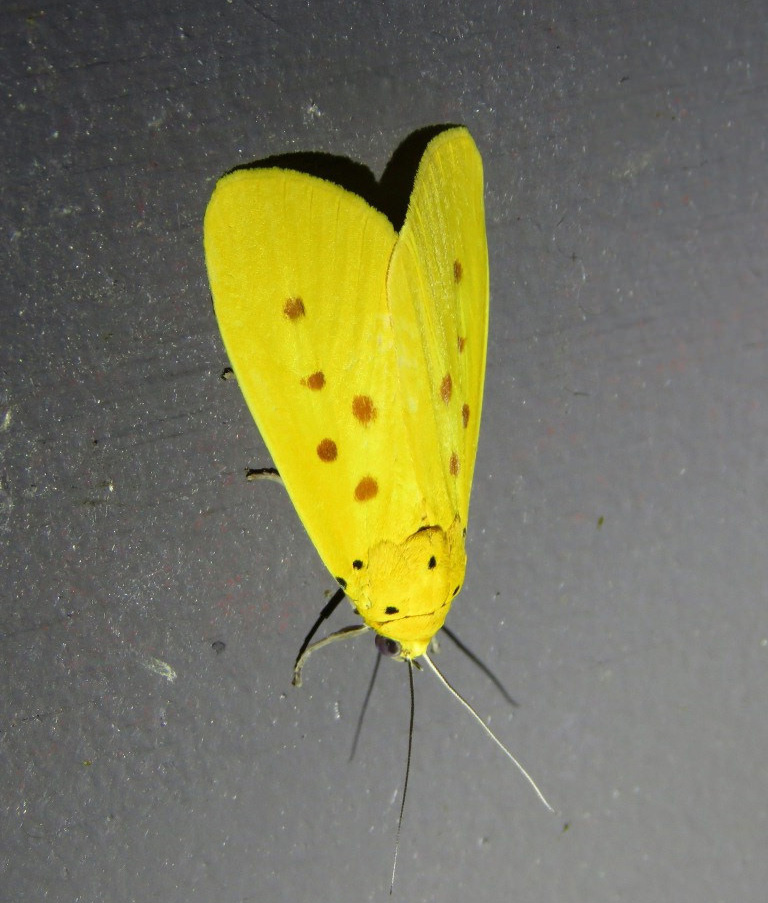Agape chloropyga: (197, 124, 554, 897)
moth: (199, 126, 556, 899)
